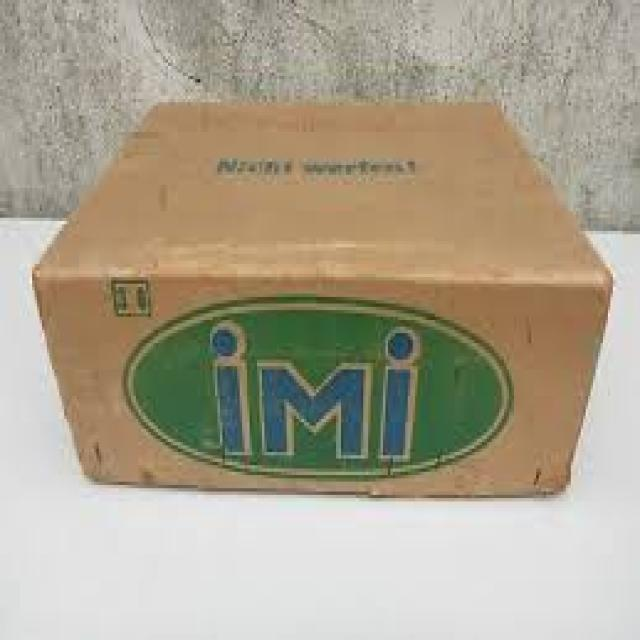Cardboard: (33, 96, 616, 496)
